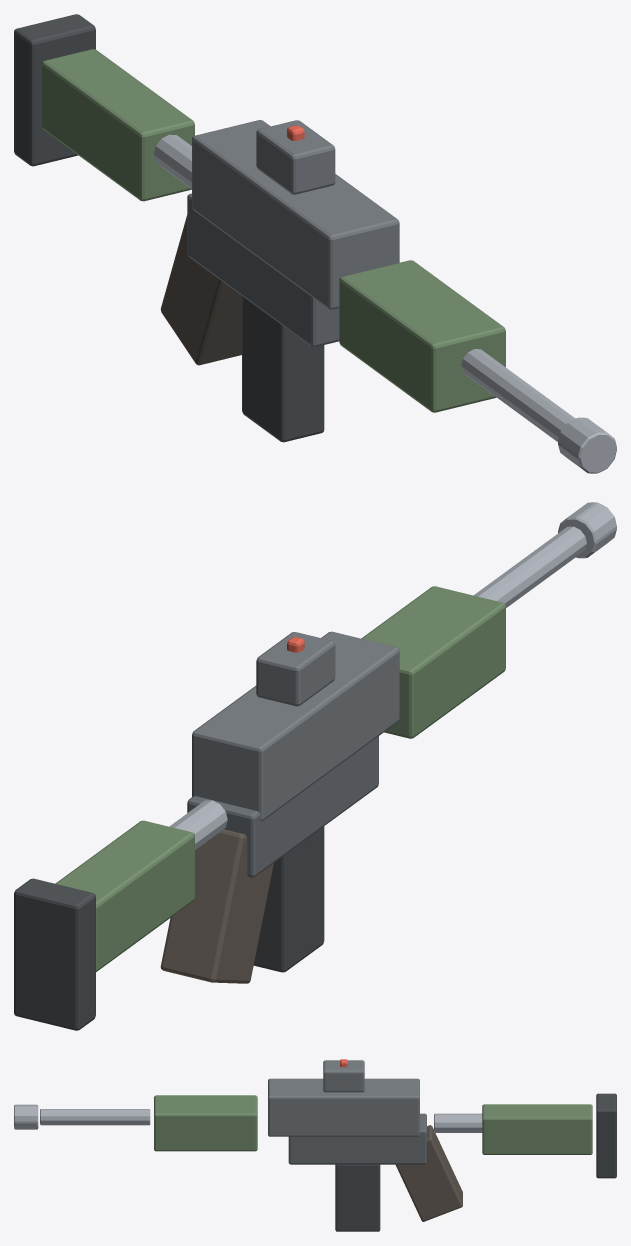
Rendered from carbine.glb.
3 renders of one model, top to bottom at view 1: azimuth 30°, elevation 25°; view 2: azimuth 150°, elevation 25°; view 3: azimuth 270°, elevation 25°, orthographic. The views are drawn at different scales.
Visible parts, largest first — view 1: Upper, Handguard, Stock, Mag, Lower, Grip, Butt, RedDot, Barrel, Brake, Buffer; view 2: Upper, Handguard, Butt, Stock, Grip, Lower, Mag, RedDot, Barrel, Brake, Buffer; view 3: Upper, Handguard, Stock, Lower, Grip, Mag, Barrel, Butt, RedDot, Buffer, Brake.
Part boxes in pixels (left/top/right/bottom): Upper: left=192, top=120, right=399, bottom=309; Handguard: left=339, top=260, right=505, bottom=412; Stock: left=41, top=49, right=194, bottom=201; Mag: left=242, top=296, right=324, bottom=442; Lower: left=187, top=193, right=339, bottom=347; Grip: left=160, top=215, right=241, bottom=365; Butt: left=14, top=14, right=95, bottom=166; RedDot: left=256, top=120, right=335, bottom=194; Barrel: left=461, top=349, right=575, bottom=441; Brake: left=558, top=417, right=616, bottom=473; Buffer: left=153, top=134, right=191, bottom=188; Upper: left=192, top=631, right=399, bottom=821; Handguard: left=361, top=586, right=505, bottom=738; Butt: left=14, top=878, right=95, bottom=1030; Stock: left=55, top=820, right=194, bottom=971; Grip: left=160, top=829, right=273, bottom=983; Lower: left=187, top=736, right=378, bottom=877; Mag: left=253, top=826, right=324, bottom=972; RedDot: left=256, top=632, right=335, bottom=706; Barrel: left=473, top=526, right=586, bottom=607; Brake: left=558, top=502, right=616, bottom=558; Buffer: left=169, top=800, right=227, bottom=850; Upper: left=268, top=1078, right=419, bottom=1136; Handguard: left=154, top=1095, right=257, bottom=1151; Stock: left=482, top=1104, right=592, bottom=1154; Lower: left=288, top=1113, right=426, bottom=1164; Grip: left=395, top=1125, right=462, bottom=1221; Mag: left=335, top=1164, right=380, bottom=1231; Barrel: left=40, top=1109, right=150, bottom=1125; Butt: left=596, top=1093, right=616, bottom=1178; RedDot: left=323, top=1060, right=364, bottom=1092; Buffer: left=434, top=1113, right=482, bottom=1132; Brake: left=14, top=1104, right=38, bottom=1129.
Size of the model in its own units: 0.068 by 0.266 by 0.8725.
